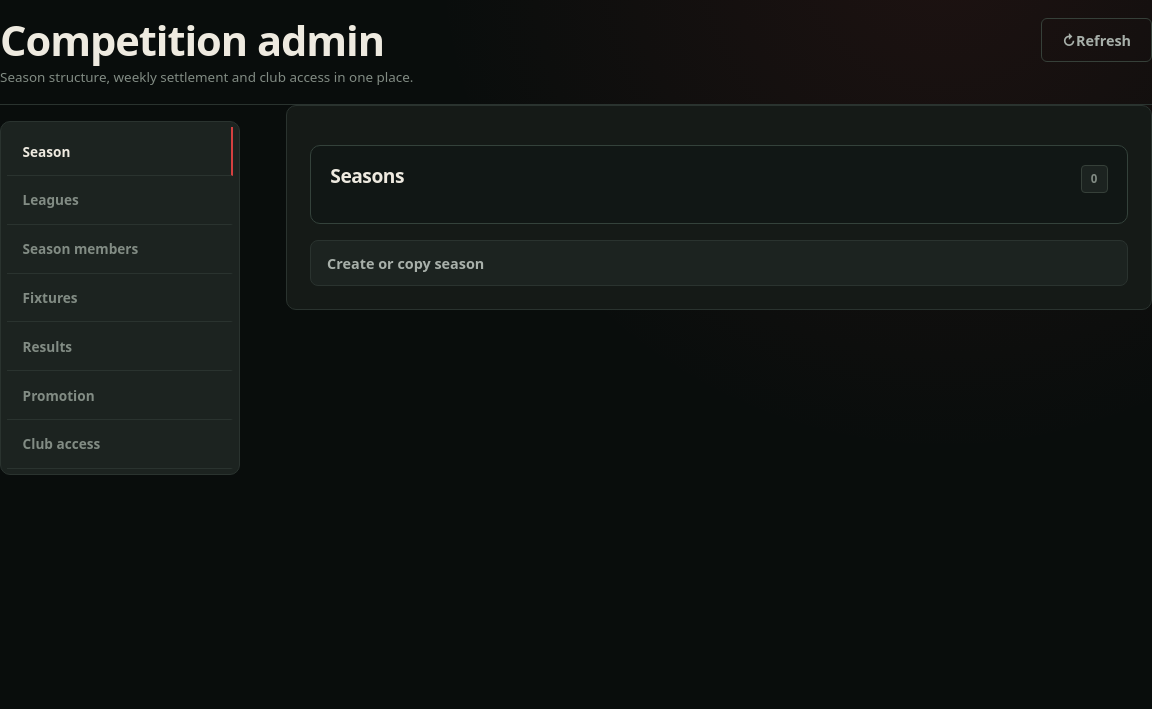
Test case: administrator competition workspace › blocks fixture generation in the desktop control room until the whole season is ready
Step 1. Click the tab "Fixtures" → (120, 298), box [7,274,233,322]
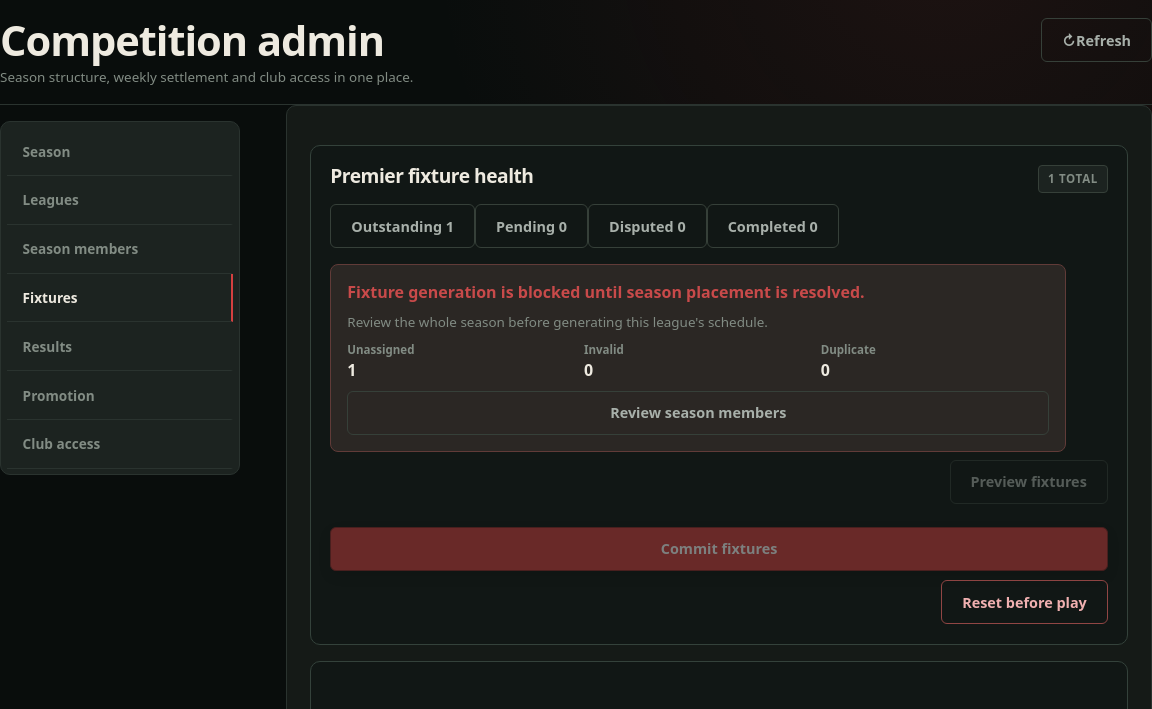
Check: the message named "Fixture readiness" is shown, box [330,264,1066,452]
Check: the text "Fixture generation is blocked until season placement is resolved" is shown, box [347,281,865,303]
Check: the button "Preview fixtures" is disabled, box [950,460,1108,504]
